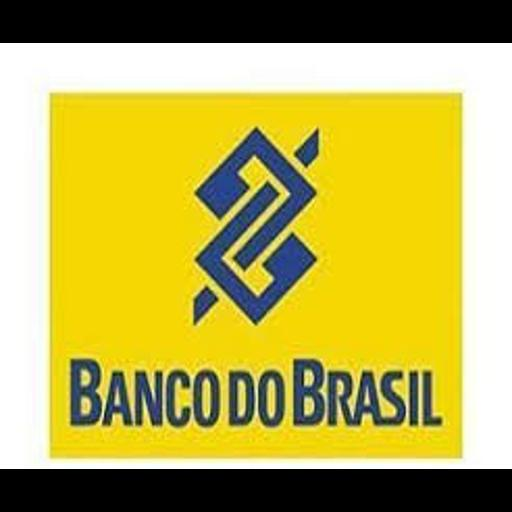Banco do Brasil S-A: (0, 43, 512, 469)
